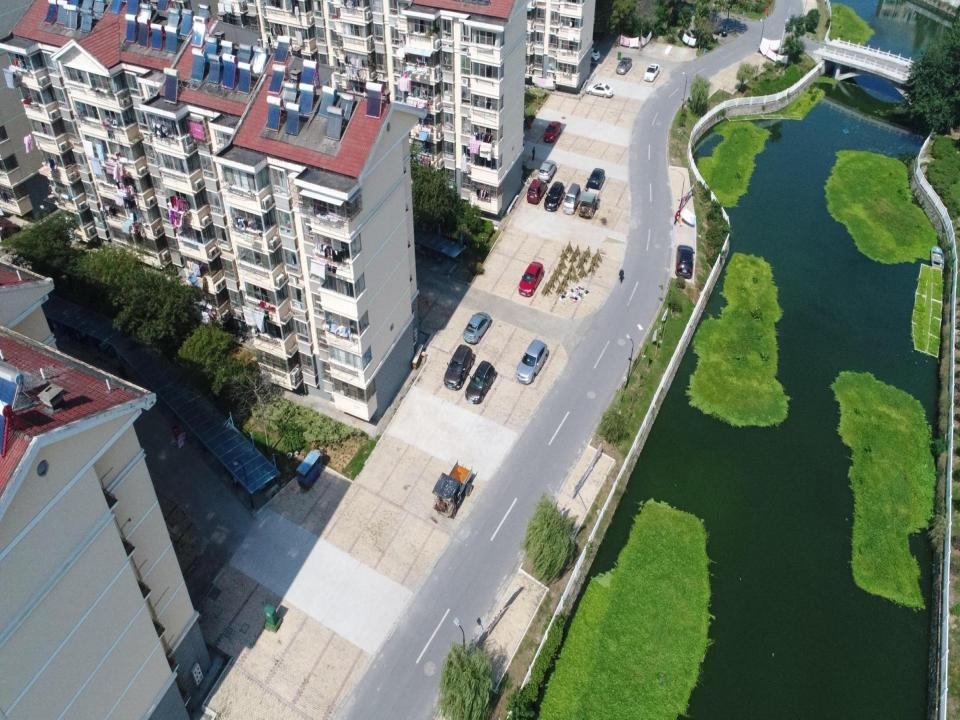car: (516, 335, 549, 384), (465, 360, 496, 404), (444, 345, 472, 390), (463, 311, 491, 344), (518, 261, 544, 296), (676, 244, 694, 279), (545, 181, 565, 211), (528, 179, 546, 205), (586, 166, 604, 192), (543, 121, 562, 144), (537, 160, 556, 182), (587, 82, 613, 98), (705, 20, 728, 36), (644, 60, 659, 84), (617, 57, 632, 74), (589, 48, 600, 60)
truck: (435, 462, 472, 518), (578, 186, 598, 219)
van: (562, 183, 580, 216)
